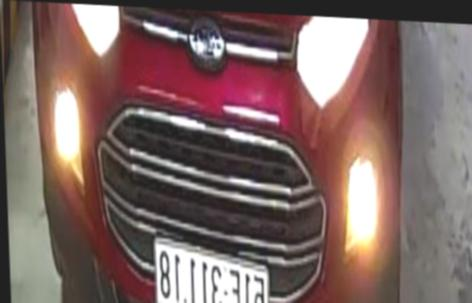License_Plate: (142, 240, 276, 303)
